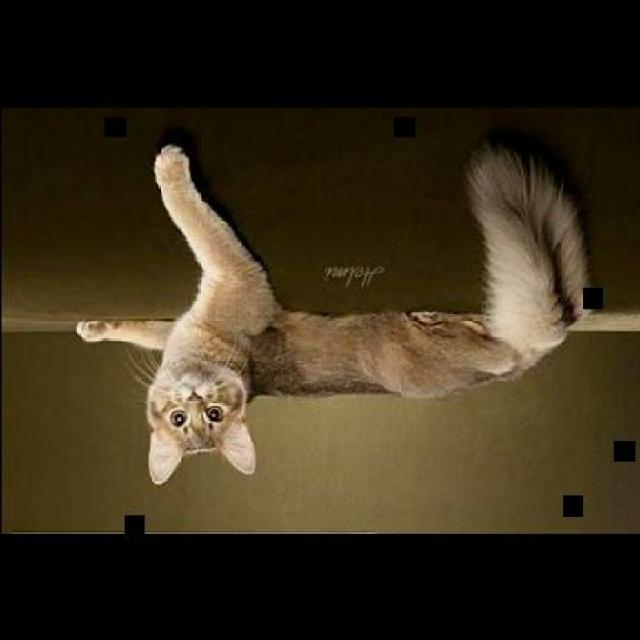unauthorized: (74, 140, 589, 486)
